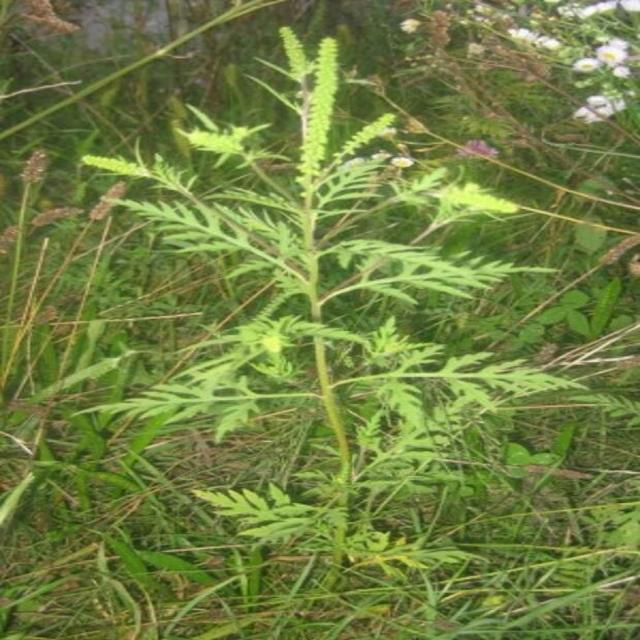ambrosia: (102, 29, 516, 306)
